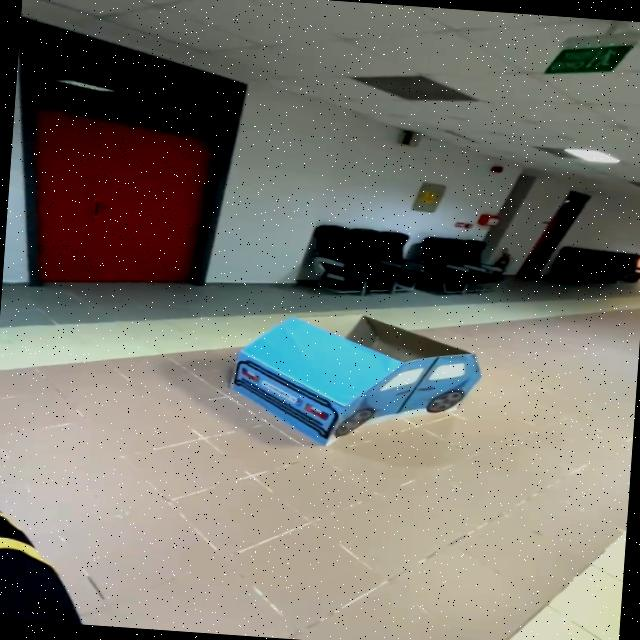blue_car: (185, 294, 513, 468)
